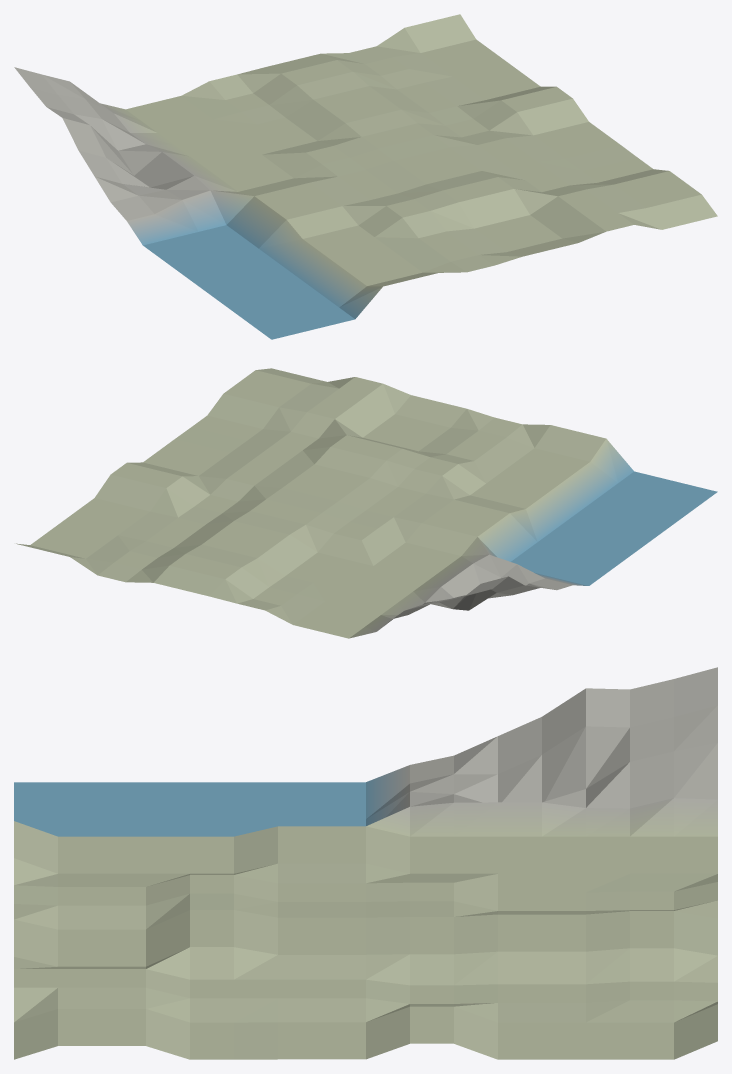
The picture shows the model from 3 angles, top to bottom: view 1: azimuth 30°, elevation 25°; view 2: azimuth 150°, elevation 25°; view 3: azimuth 270°, elevation 25°; orthographic projection. The views are drawn at different scales.
Size of the model in its own units: 32 by 5.77 by 32.
